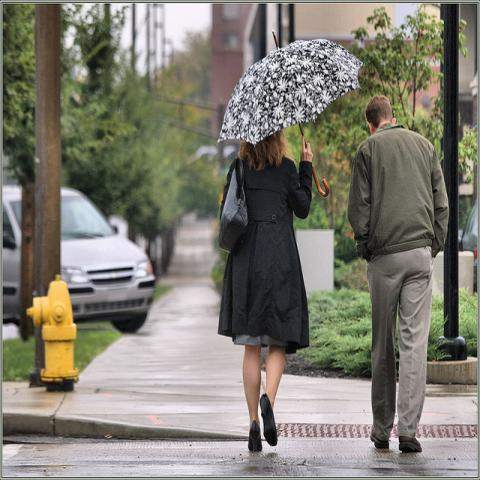car: (2, 185, 157, 332), (460, 199, 477, 272)
